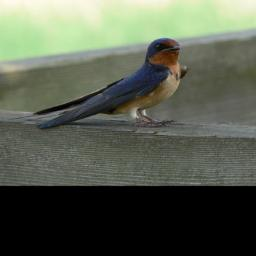Swallow: (6, 36, 190, 132)
